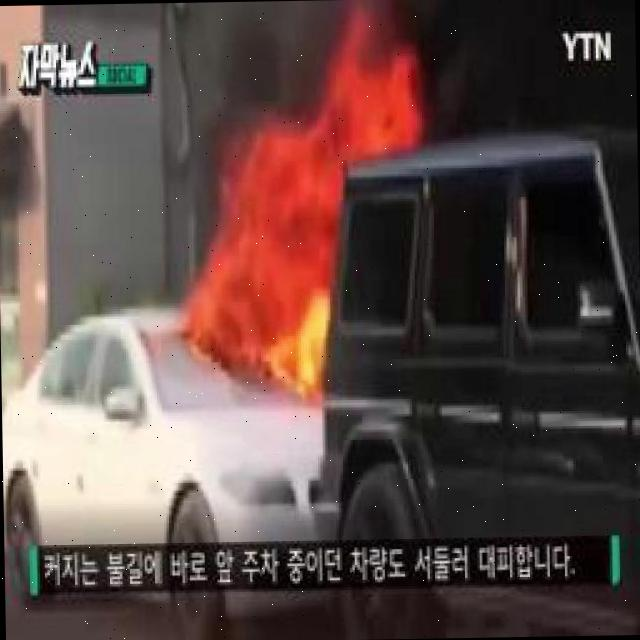fire: (205, 64, 418, 399)
